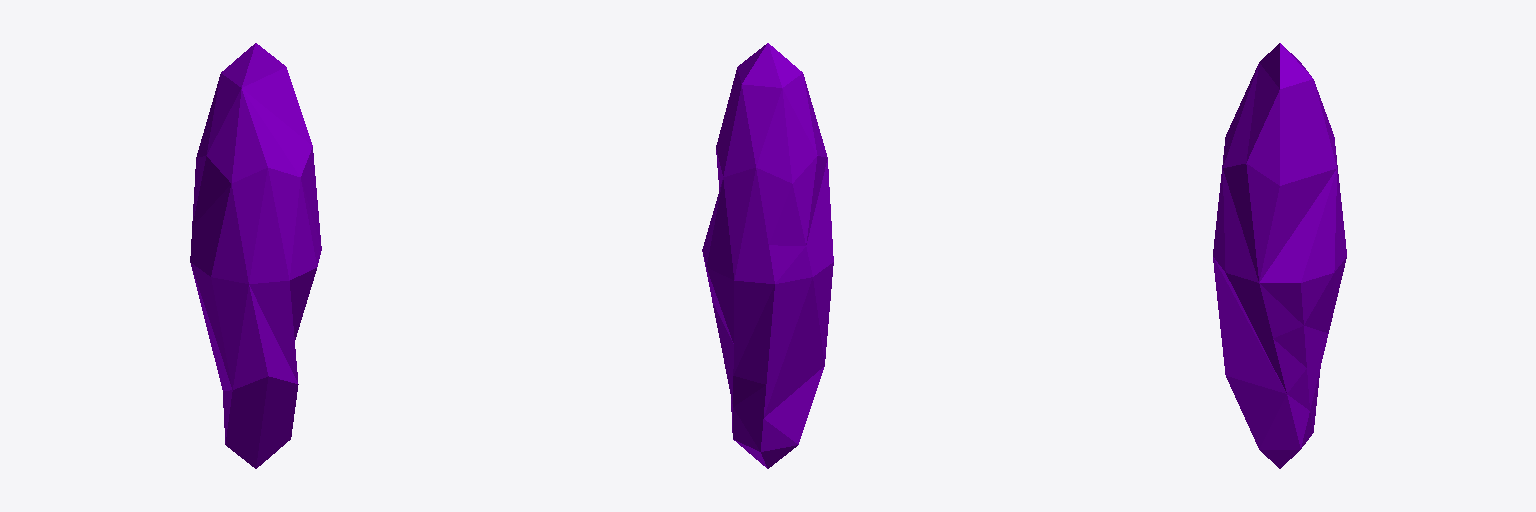
File: itempickupper.obj
3 renders of one model, left to right at view 1: azimuth 30°, elevation 25°; view 2: azimuth 150°, elevation 25°; view 3: azimuth 270°, elevation 25°, orthographic.
Parts seen in each view (by area): view 1: Icosphere; view 2: Icosphere; view 3: Icosphere.
Boxes of the visible parts, box(x1,y1,x2,y2) form: Icosphere: box(190, 43, 321, 468); Icosphere: box(702, 43, 833, 468); Icosphere: box(1213, 43, 1346, 468).
Bounding box in the file's own units: 0.1902 × 0.7 × 0.2.